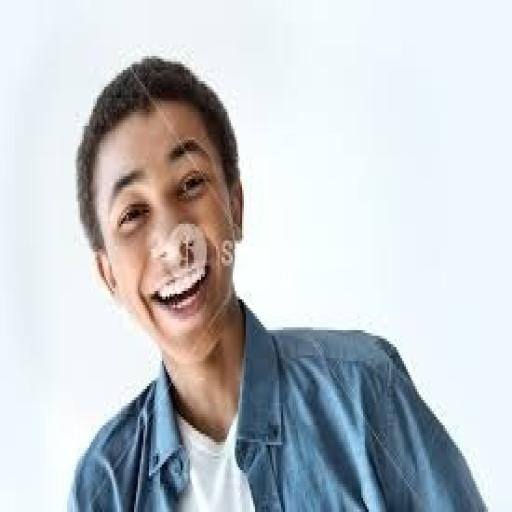laughing: (52, 48, 495, 509)
